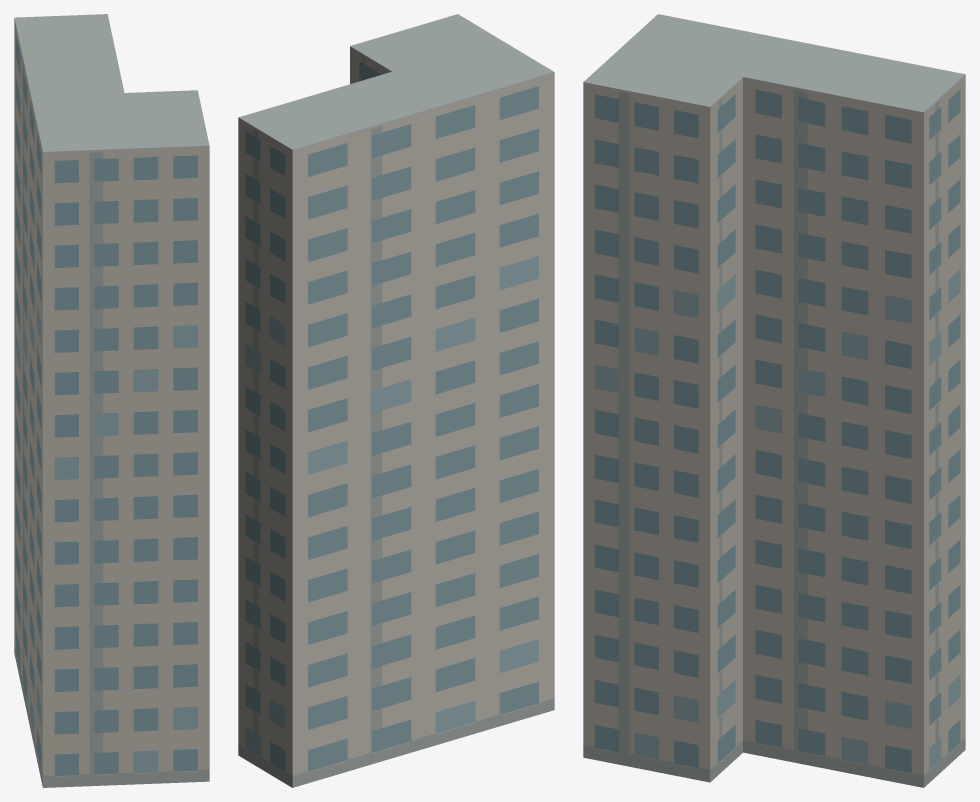
File: residential-98bef745-5ade-43ca-b968-b31c3677e3a9.glb
3 renders of one model, left to right at view 1: azimuth 30°, elevation 25°; view 2: azimuth 150°, elevation 25°; view 3: azimuth 270°, elevation 25°, orthographic. The views are drawn at different scales.
Visible parts, largest first — view 1: residential-98bef745-5ade-43ca-b968-b31c3677e3a9.tmp; view 2: residential-98bef745-5ade-43ca-b968-b31c3677e3a9.tmp; view 3: residential-98bef745-5ade-43ca-b968-b31c3677e3a9.tmp.
Part boxes in pixels (box(x1,y1,x2,y2)): residential-98bef745-5ade-43ca-b968-b31c3677e3a9.tmp: box(14, 14, 209, 787); residential-98bef745-5ade-43ca-b968-b31c3677e3a9.tmp: box(238, 14, 554, 787); residential-98bef745-5ade-43ca-b968-b31c3677e3a9.tmp: box(583, 14, 965, 787).
Size of the model in its own units: 18.75 by 60 by 30.78.
